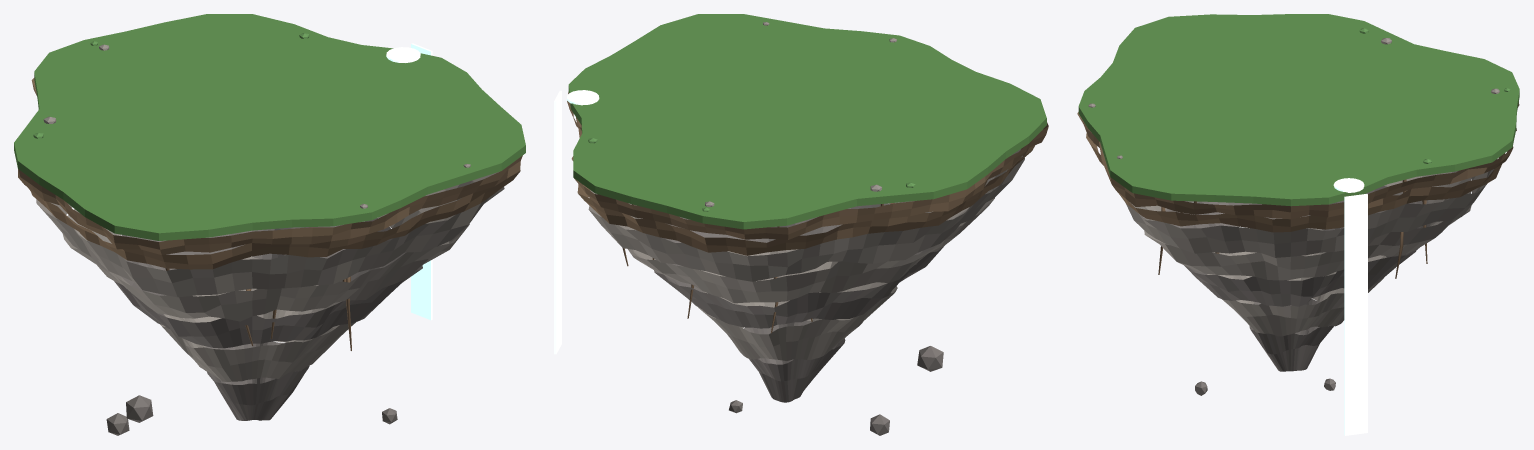
Rendered from islet_1.glb.
3 views of the same model, side by side, from view 1: azimuth 30°, elevation 25°; view 2: azimuth 150°, elevation 25°; view 3: azimuth 270°, elevation 25° (orthographic). The views are drawn at different scales.
Parts seen in each view (by area): view 1: cap; view 2: cap; view 3: cap.
Part boxes in pixels (x1=…): cap: x1=14, y1=14, x2=525, y2=435; cap: x1=554, y1=14, x2=1048, y2=435; cap: x1=1077, y1=14, x2=1519, y2=435.
Size of the model in its own units: 2 by 1.38 by 2.02.
